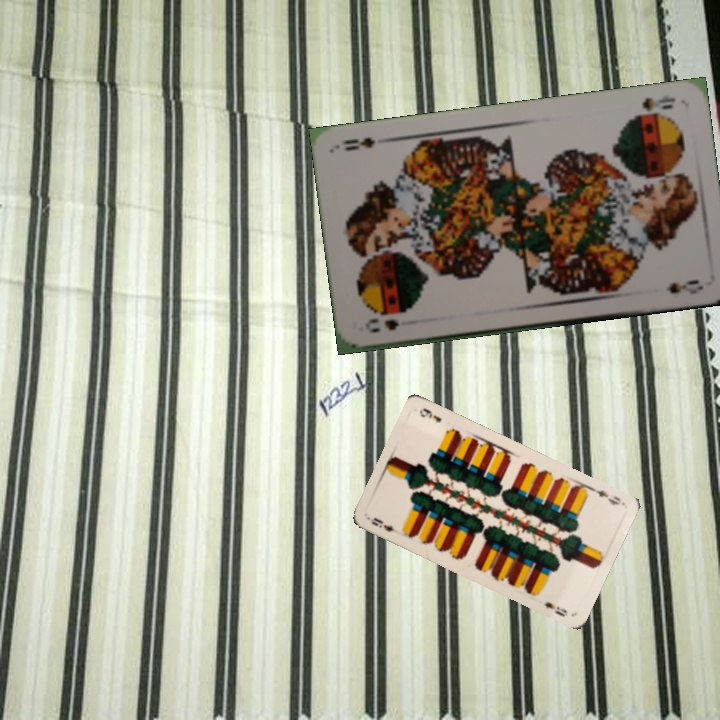E9: (587, 484, 626, 508), (365, 513, 397, 535)
SO: (630, 91, 678, 120), (360, 314, 402, 335)
